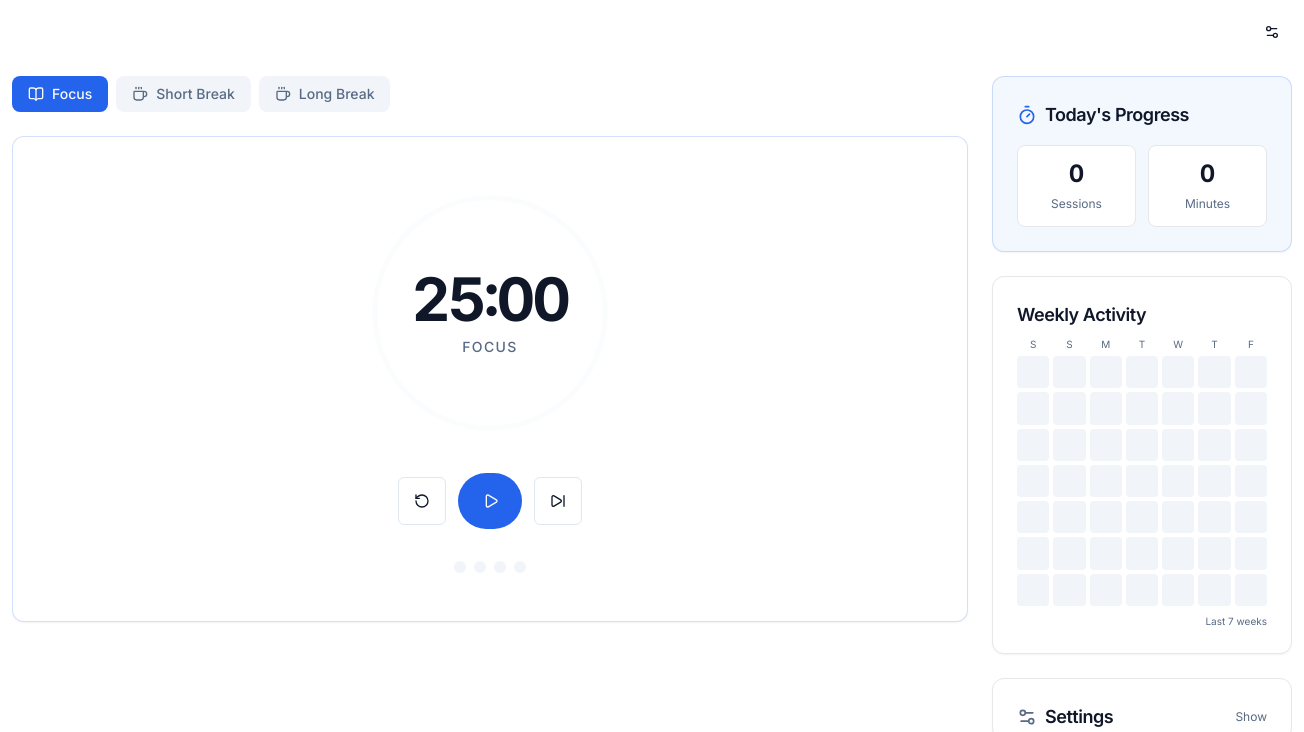
Test case: StudyTimer countdown › preserves the remaining time when paused and resumed
Click the button named "Start timer" at (490, 501), box [458,473,522,529]
Wait 5000 ms
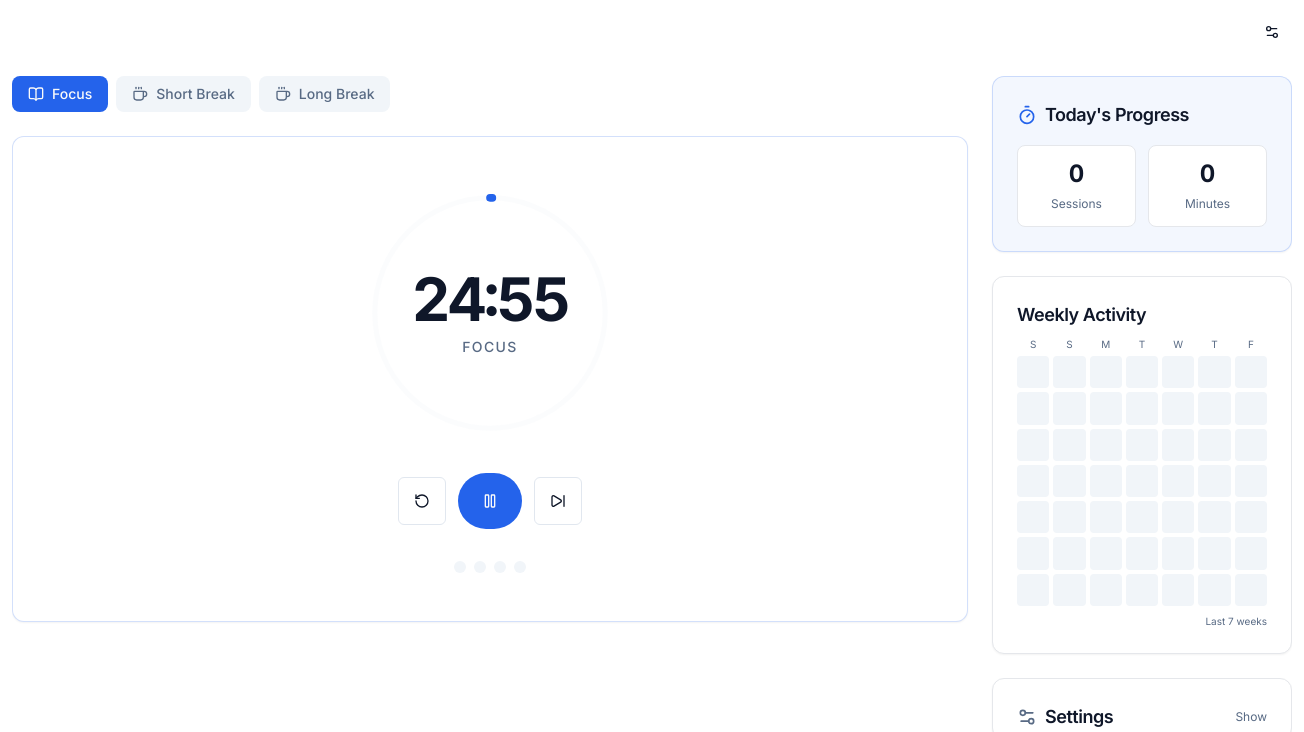
Now the text "24:55" is shown, box [412,269,568,329]
Note: Pausing must NOT reset the countdown back to the full duration.
Click the button named "Pause timer" at (490, 501), box [458,473,522,529]
Wait 4000 ms
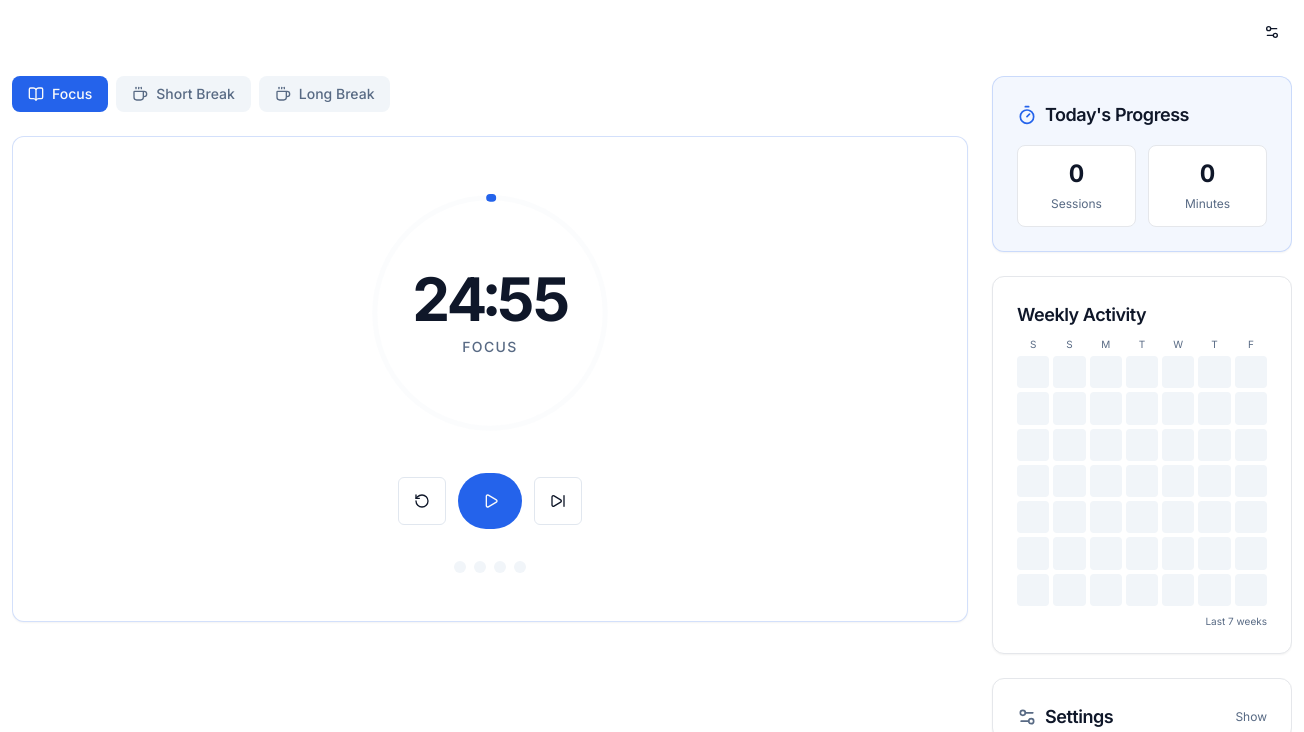
Now the text "24:55" is shown, box [412,269,568,329]
Note: Resuming continues from where it left off.
Click the button named "Start timer" at (490, 501), box [458,473,522,529]
Wait 2000 ms
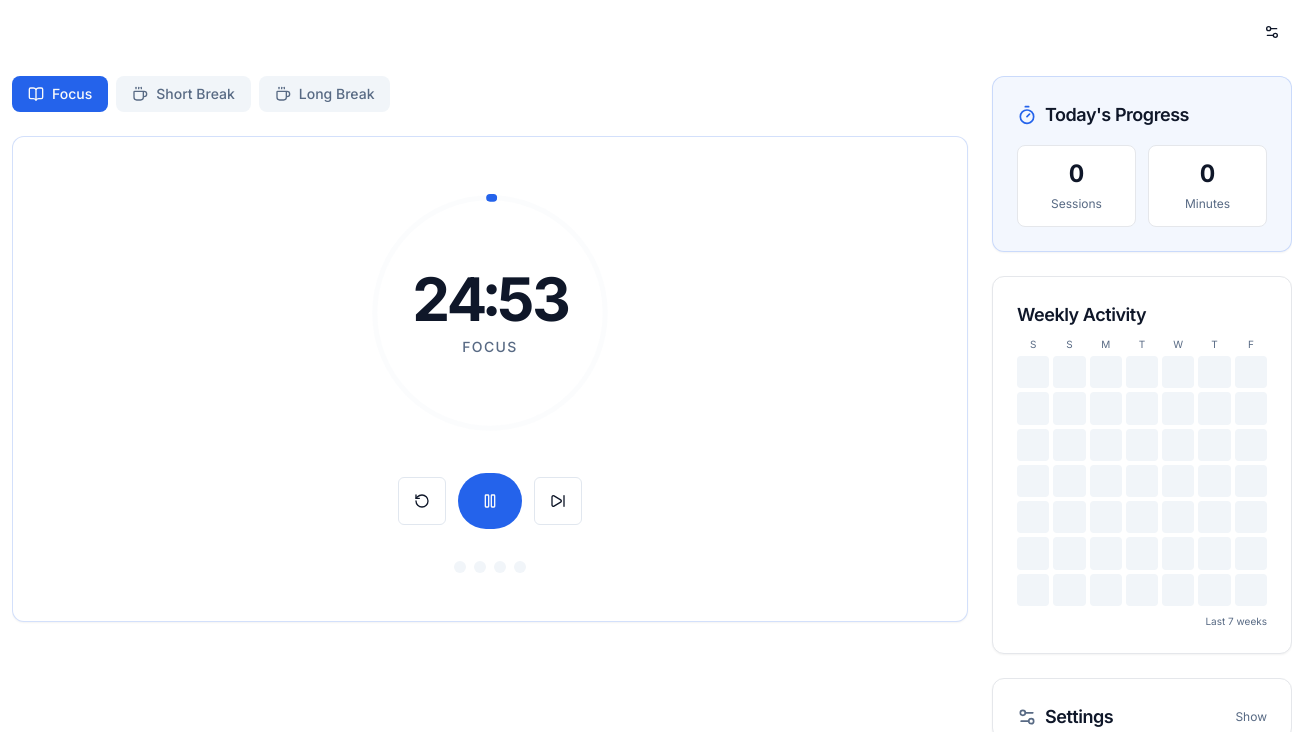
Now the text "24:53" is shown, box [412,269,568,329]
